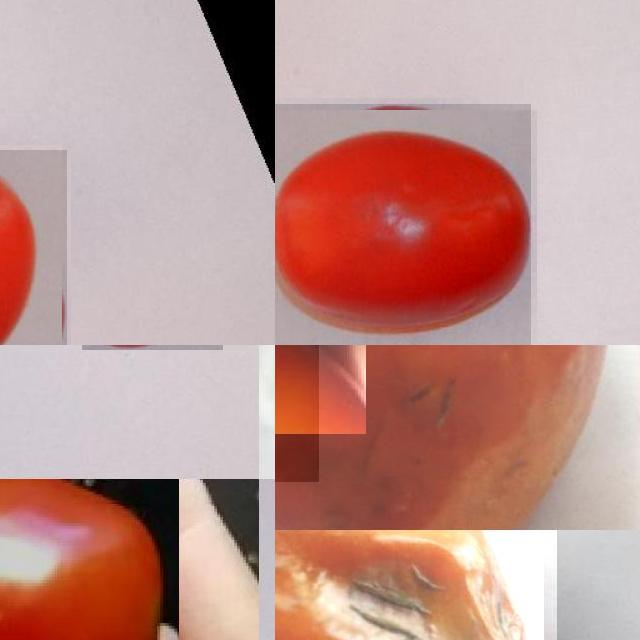0: (275, 104, 531, 345), (0, 479, 178, 640)
Rotten Tomato: (275, 345, 640, 530), (275, 530, 557, 640)
